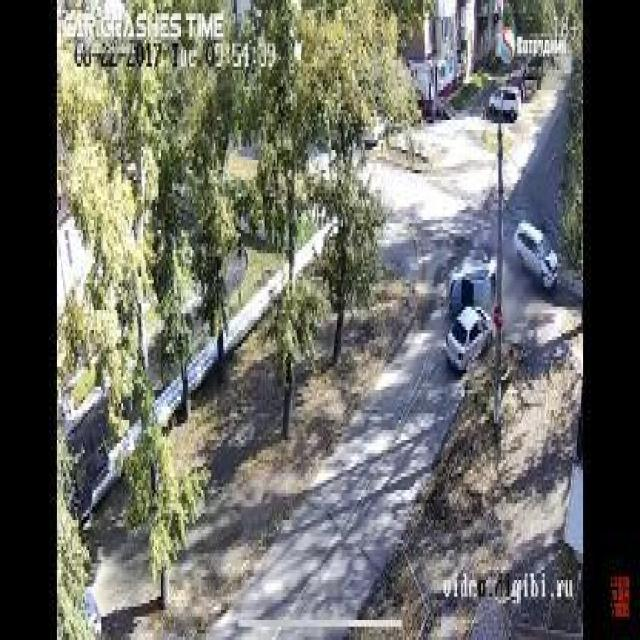accident: (440, 253, 508, 360)
